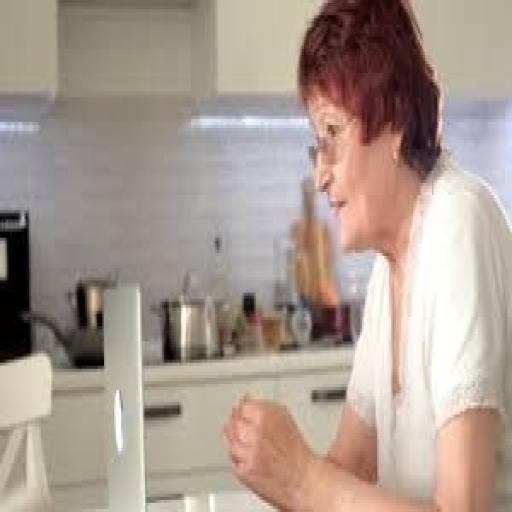using_laptop: (34, 209, 334, 512)
